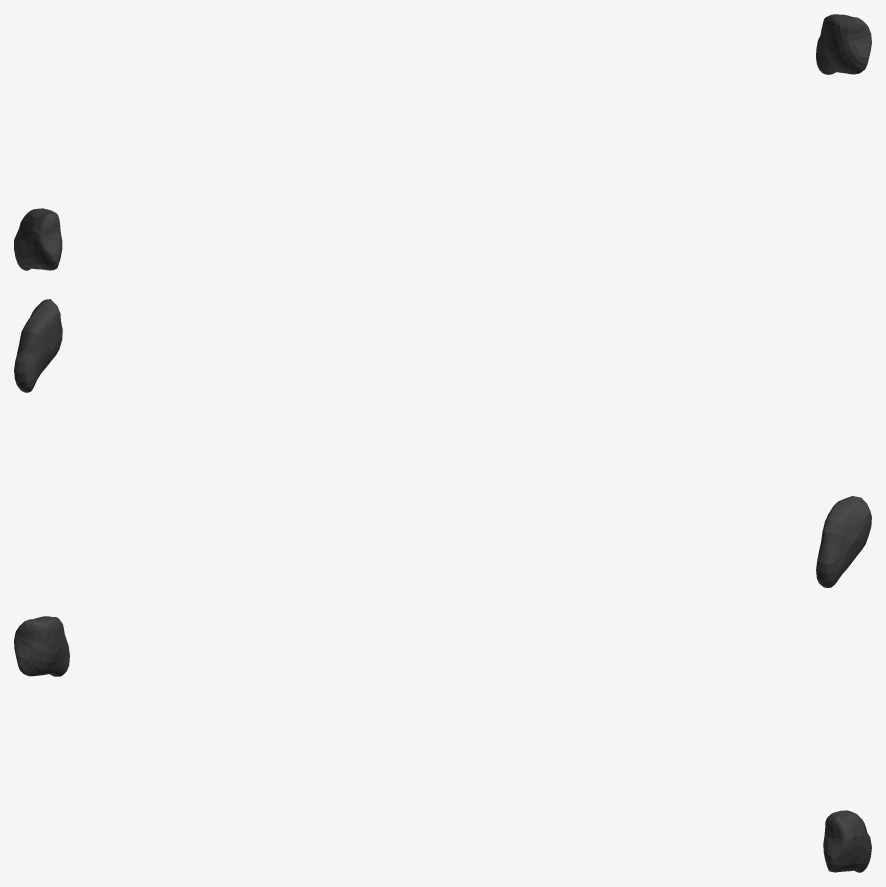
File: Tarsal_second_1.glb
The picture shows the model from 3 angles, top to bottom: view 1: azimuth 30°, elevation 25°; view 2: azimuth 150°, elevation 25°; view 3: azimuth 330°, elevation 25°; orthographic projection.
Visible parts, largest first — view 1: Tarsal_second_1; view 2: Tarsal_second_1; view 3: Tarsal_second_1.
Part boxes in pixels (<box>): Tarsal_second_1: <box>14,14,871,270</box>; Tarsal_second_1: <box>14,299,871,587</box>; Tarsal_second_1: <box>14,616,871,872</box>.
Size of the model in its own units: 0.00408 by 0.000345 by 0.000338.
1 material, 1 textured.
